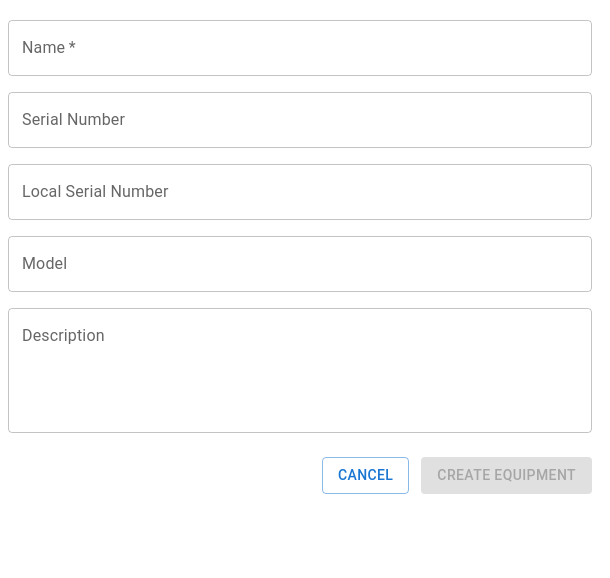
Test: CreateToolForm › surfaces a server-provided message under response.data.message
This screenshot has width=610, height=578.
Type "Drill" into the field labelled "Name *" at (300, 48), box [8,20,592,76]
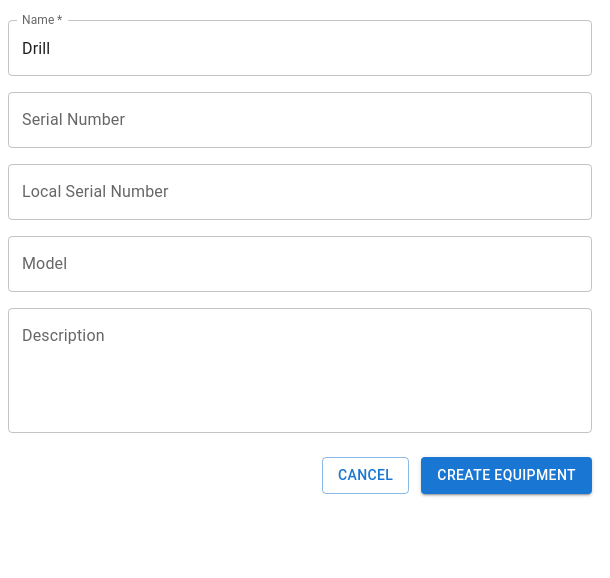
Click the button "Create Equipment" at (507, 475), box [421,457,592,494]
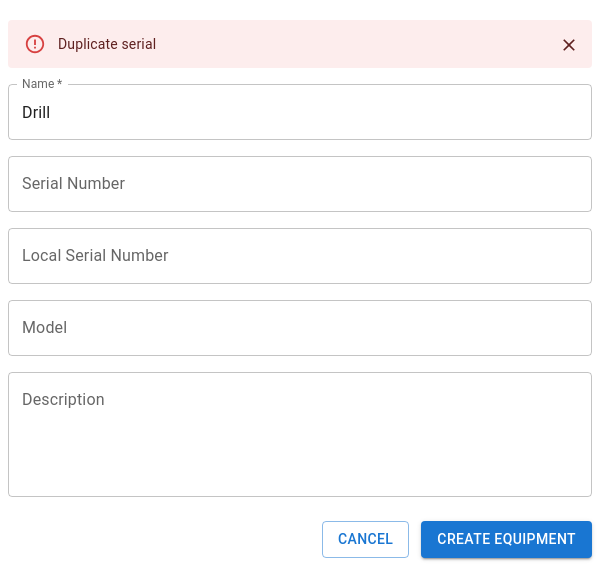
Expected: the text "Duplicate serial" is shown, [58,36,156,52]
